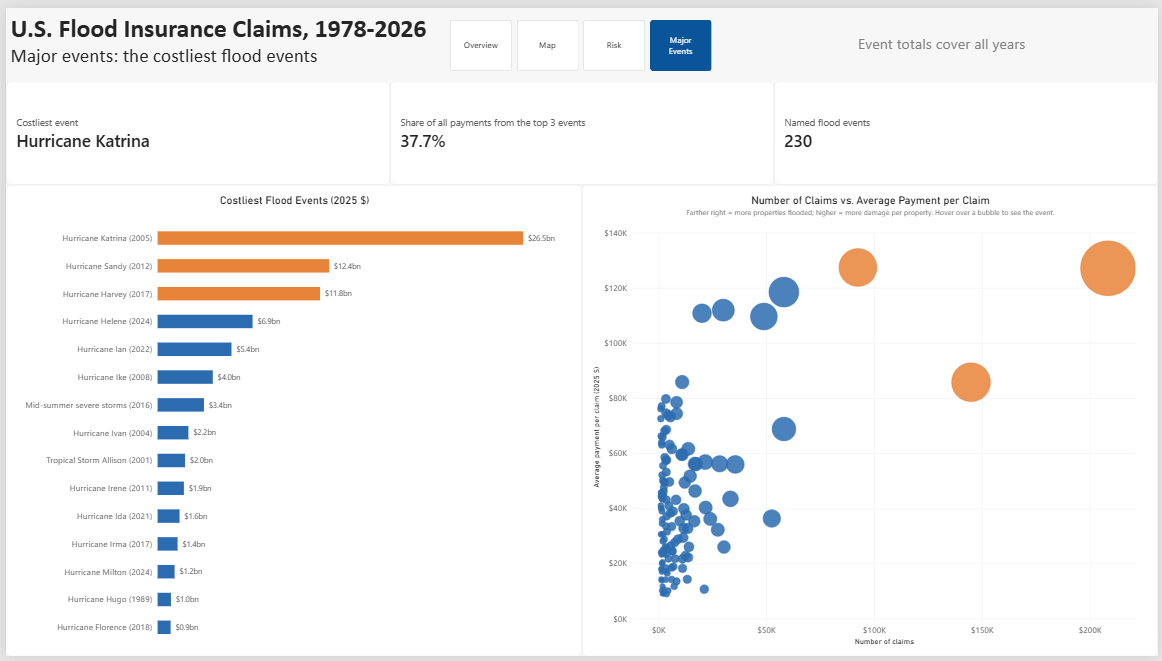

The page's visual inventory and layout, read from the dashboard file:
{"tool":"powerbi","page":{"name":"Major Events","canvas":[1920,1080],"ordinal":3},"visuals":[{"type":"textbox","box":[7.5,7.5,730,130],"z":0},{"type":"cardVisual","fields":{"Data":["v_event_summary.Costliest Event"]},"box":[0,122.5,640,172.5],"z":1000},{"type":"cardVisual","fields":{"Data":["v_event_summary.Named Events"]},"box":[1280,122.5,640,172.5],"z":2000},{"type":"cardVisual","fields":{"Data":["v_event_summary.Top 3 Events Share of All Payments"]},"box":[640,122.5,640,172.5],"z":3000},{"type":"clusteredBarChart","title":"Costliest Flood Events (2025 $)","fields":{"Category":["v_event_summary.event_label"],"Y":["Sum(v_event_summary.paid_2025)"]},"box":[0,295,960,785],"z":4000},{"type":"scatterChart","title":"Number of Claims vs. Average Payment per Claim","fields":{"Category":["v_event_summary.event_label"],"Size":["Sum(v_event_summary.paid_2025)"],"X":["Sum(v_event_summary.claims)"],"Y":["Avg(v_event_summary.avg_paid_2025)"]},"box":[960,295,960,785],"z":5000},{"type":"pageNavigator","box":[740,20,437.5,85],"z":6000},{"type":"textbox","box":[1420,42.5,312.5,50],"z":7000}]}

Visuals, with their boxes in screenshot pixels (x1, y1, x2, y2), scaled from the page's 1920x1080 canvas onto the 1162x661 screenshot:
textbox: 5, 5, 446, 84
cardVisual - v_event_summary.Costliest Event: 0, 75, 387, 181
cardVisual - v_event_summary.Named Events: 775, 75, 1161, 181
cardVisual - v_event_summary.Top 3 Events Share of All Payments: 387, 75, 775, 181
"Costliest Flood Events (2025 $)" clusteredBarChart: 0, 181, 581, 660
"Number of Claims vs. Average Payment per Claim" scatterChart: 581, 181, 1161, 660
pageNavigator: 448, 12, 713, 64
textbox: 859, 26, 1049, 57
